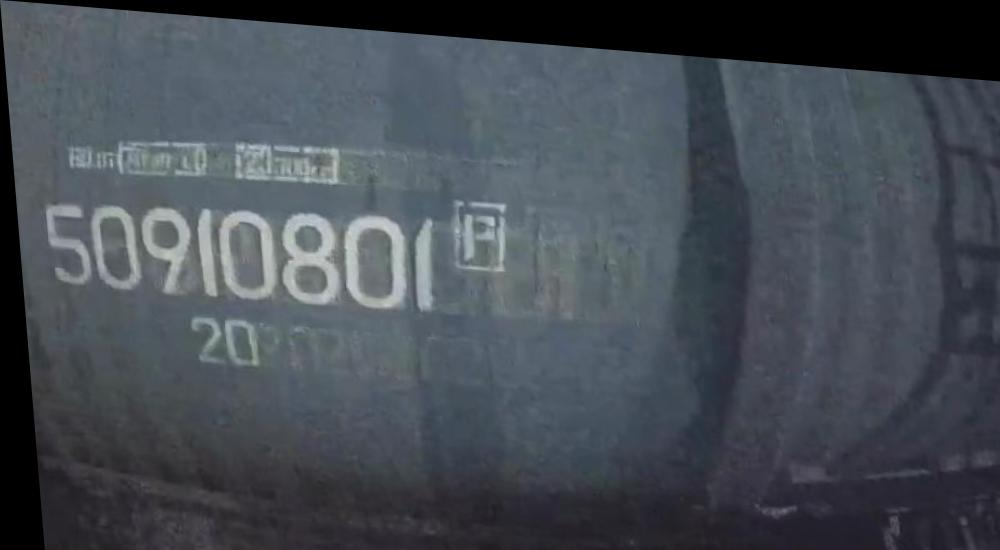Wagon-number: (32, 180, 445, 316)
